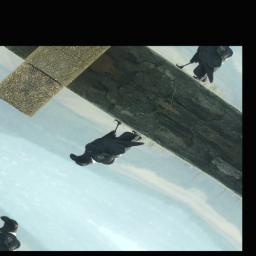Crow: (65, 115, 149, 182)
